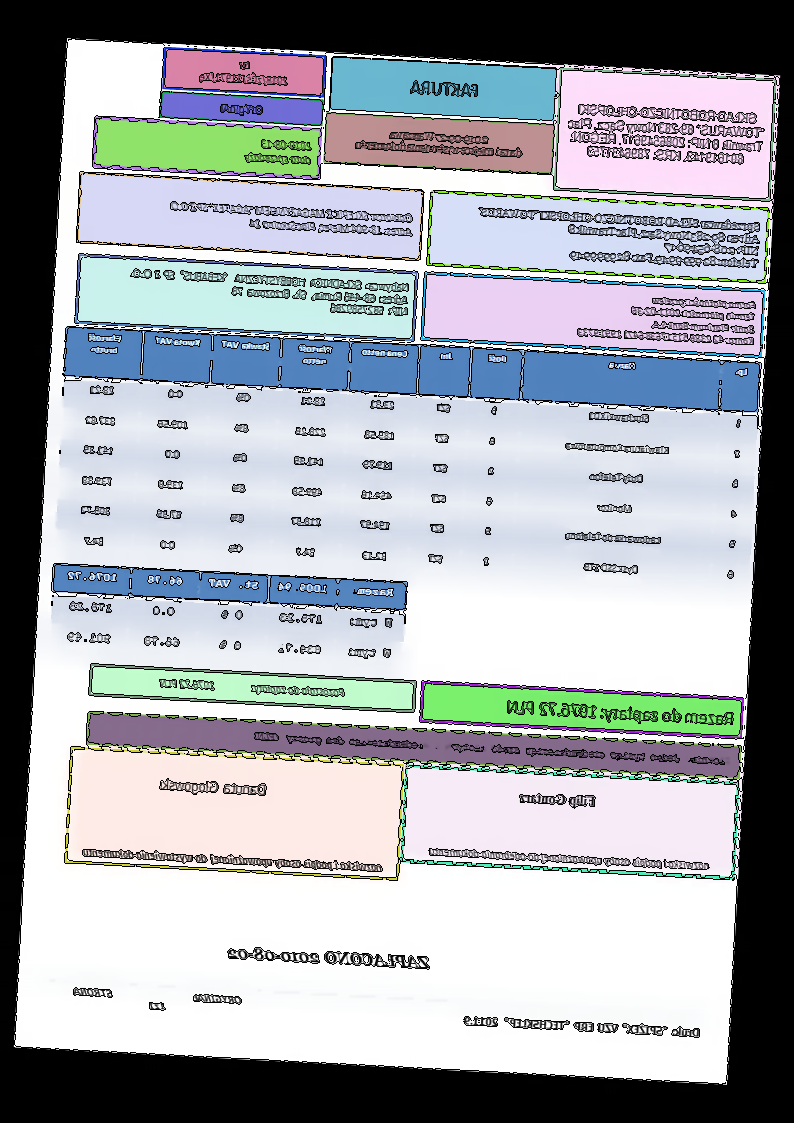Table: (55, 325, 763, 597), (47, 563, 409, 673)
TextBox: (474, 204, 764, 272), (253, 729, 734, 768), (125, 266, 412, 318), (564, 101, 768, 168), (575, 289, 759, 349), (166, 199, 415, 239), (81, 844, 385, 874), (427, 845, 712, 873), (505, 697, 735, 729), (461, 1013, 702, 1040), (225, 943, 435, 973), (351, 126, 526, 160), (70, 986, 244, 1016), (157, 676, 346, 700), (197, 58, 292, 90), (159, 777, 268, 800), (242, 136, 315, 167), (409, 78, 482, 101), (518, 789, 598, 809), (218, 99, 266, 118)
